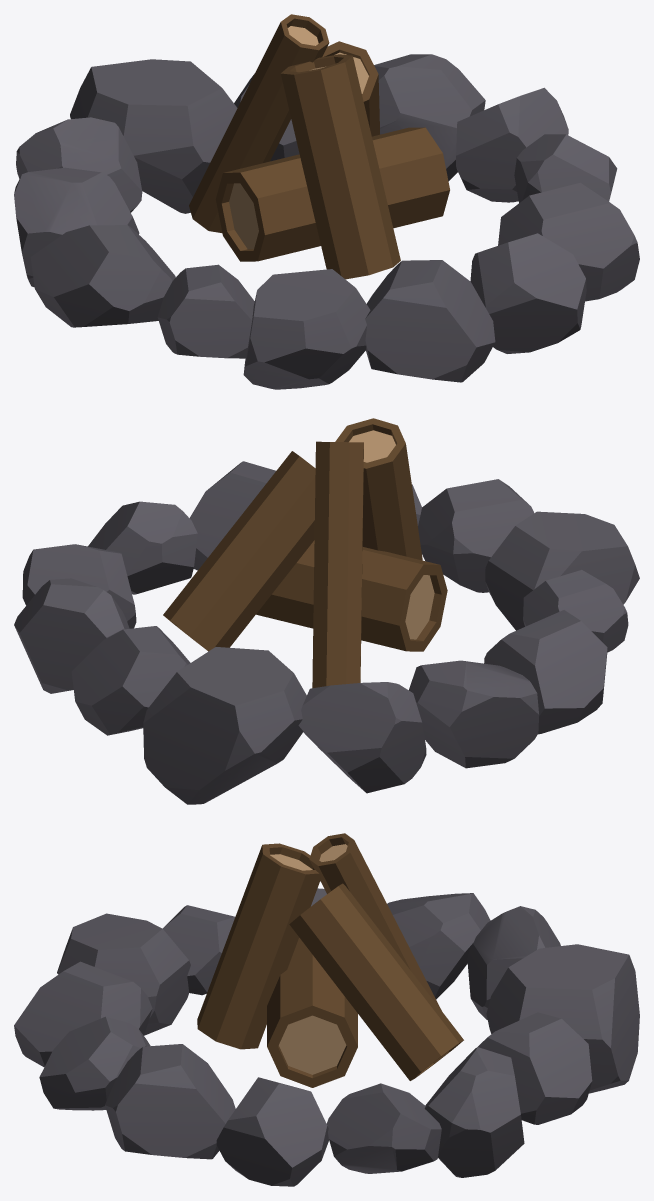
Rendered from Fire_01.glb.
3 renders of one model, top to bottom at view 1: azimuth 30°, elevation 25°; view 2: azimuth 150°, elevation 25°; view 3: azimuth 270°, elevation 25°, orthographic. The views are drawn at different scales.
Visible parts, largest first — view 1: Fire_01; view 2: Fire_01; view 3: Fire_01.
Boxes of the visible parts, bbox=[...] form: Fire_01: bbox=[14, 14, 639, 389]; Fire_01: bbox=[14, 418, 639, 804]; Fire_01: bbox=[14, 833, 639, 1186].
Size of the model in its own units: 0.9601 by 0.4616 by 1.02.
Materials: 1 (1 with a texture image).
